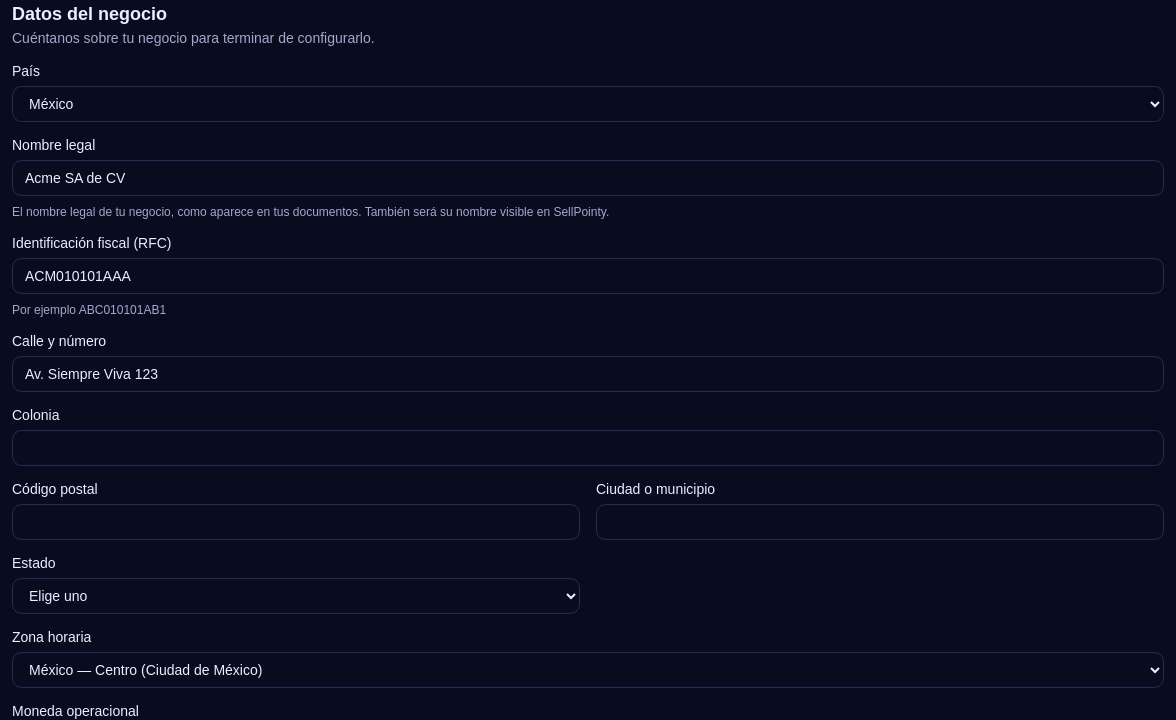
Test: StepBusiness — zonas horarias curadas por país (decisión de Carlos, 2026-08-16) › país de una sola zona (BZ): la ofrece sola y preseleccionada
This screenshot has width=1176, height=720.
Select "Belice" in the dropdown labelled "País" at [588, 104], box [12, 86, 1164, 122]
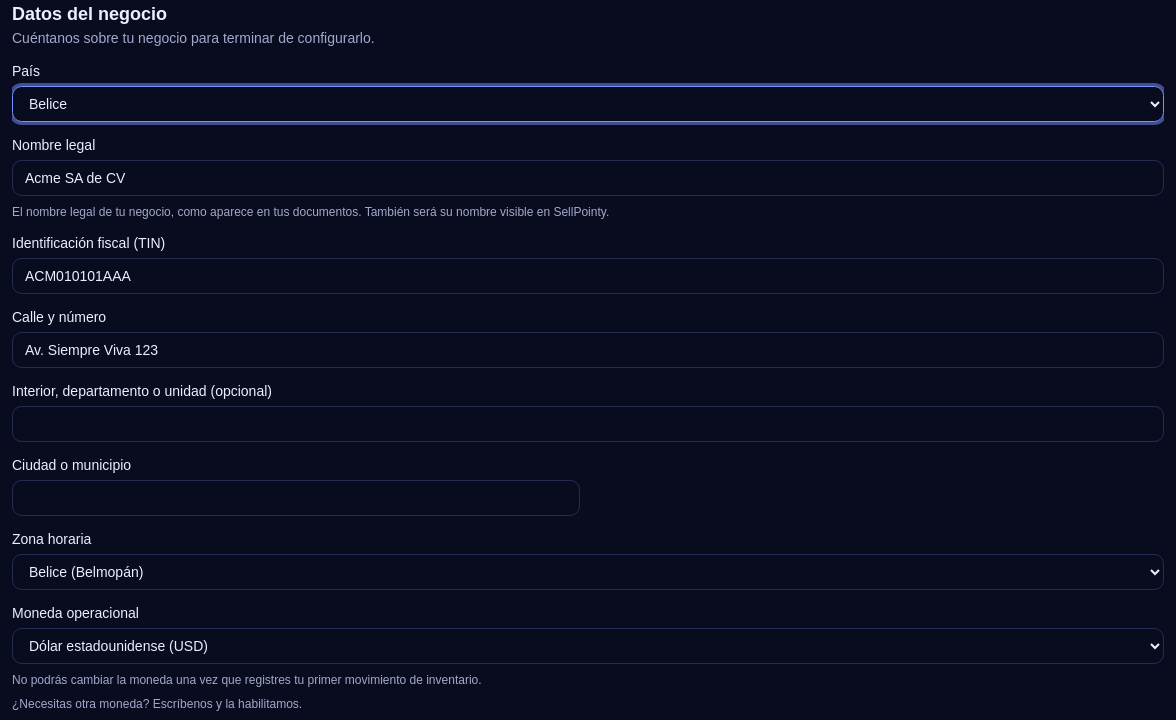
expect the dropdown labelled "Zona horaria" shows "Belice (Belmopán)": met, box [12, 554, 1164, 590]
